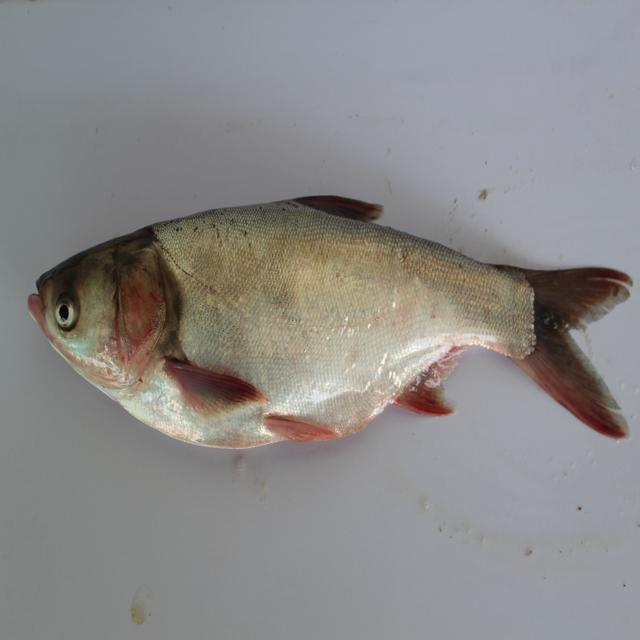SilverCarp: (25, 180, 640, 462)
